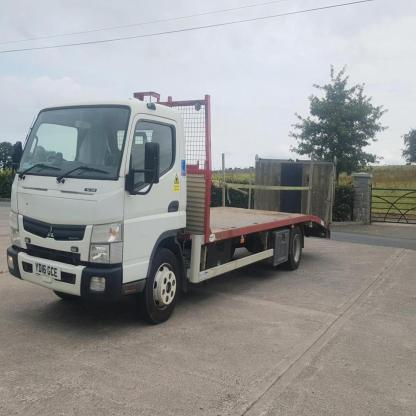truck: (9, 91, 331, 321)
